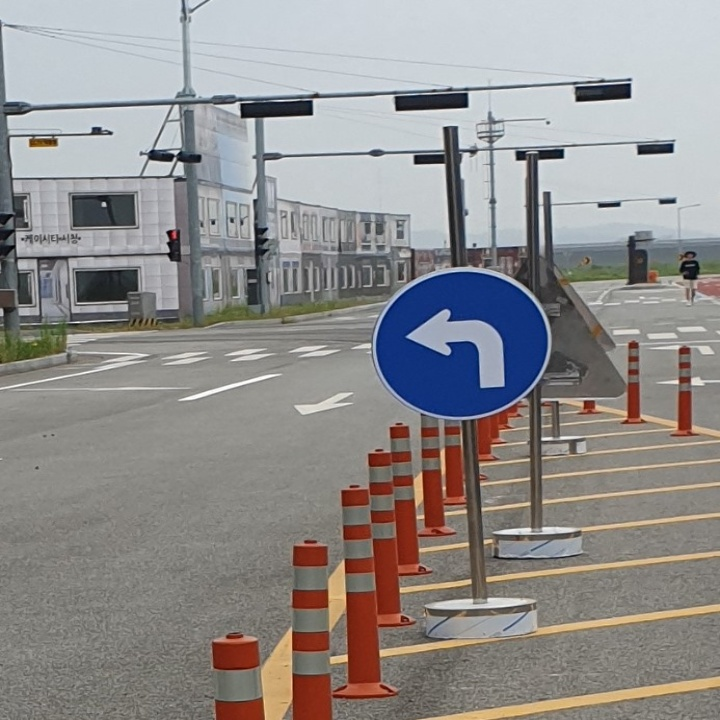left: (397, 301, 514, 397)
